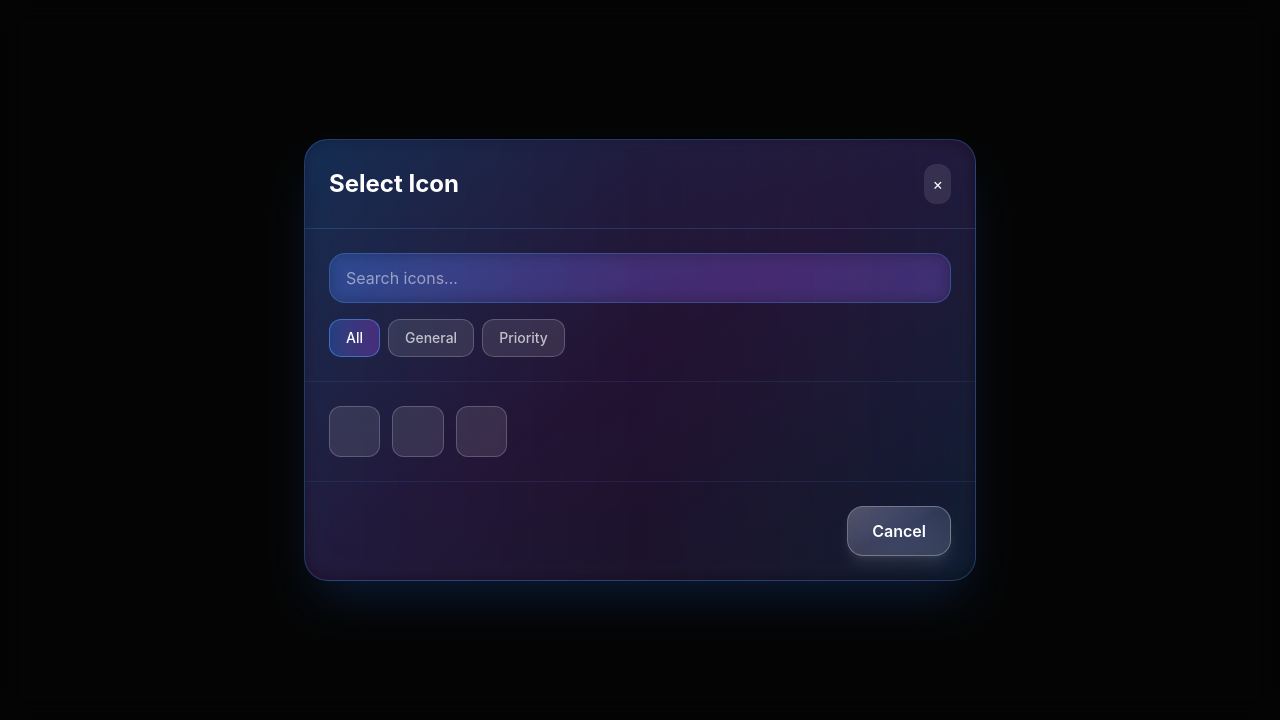
Test: IconSelector Component › shows no results message when search yields no results
In the field with placeholder "Search icons...": [640, 278] box x1=329 y1=253 x2=951 y2=303, type "nonexistent"
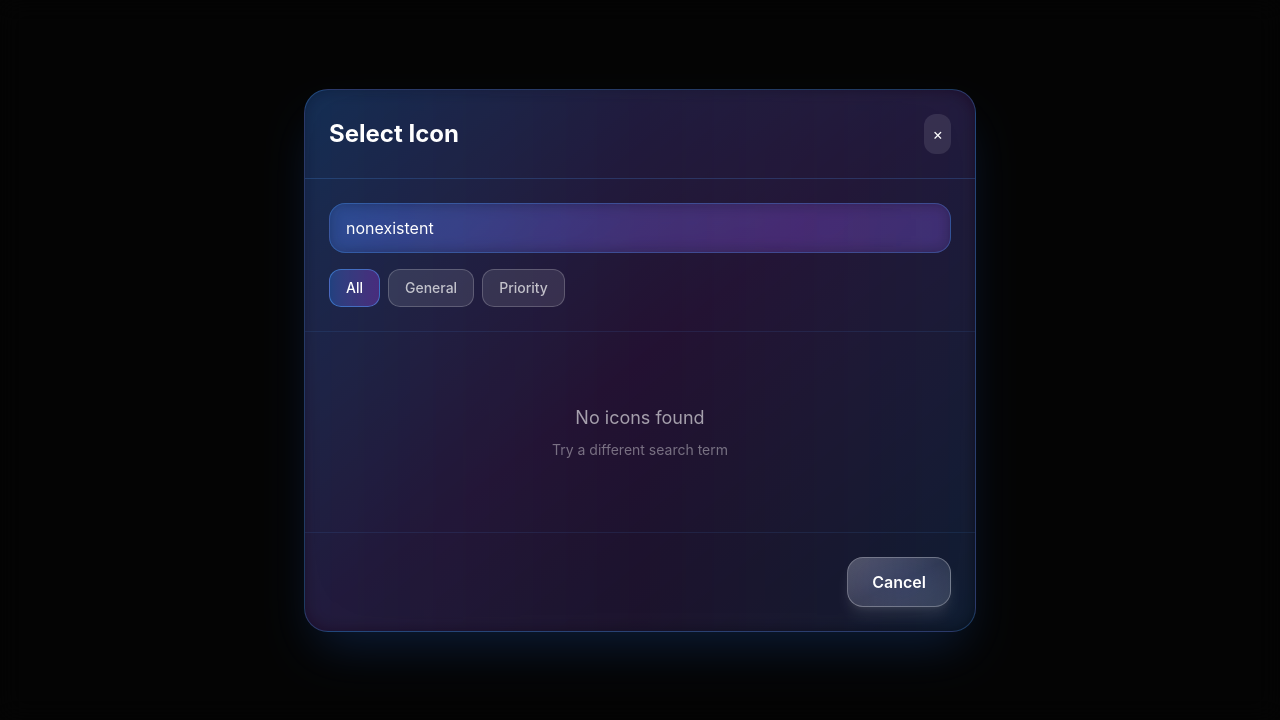
Check: the text "No icons found" is shown, box x1=575 y1=406 x2=705 y2=428
